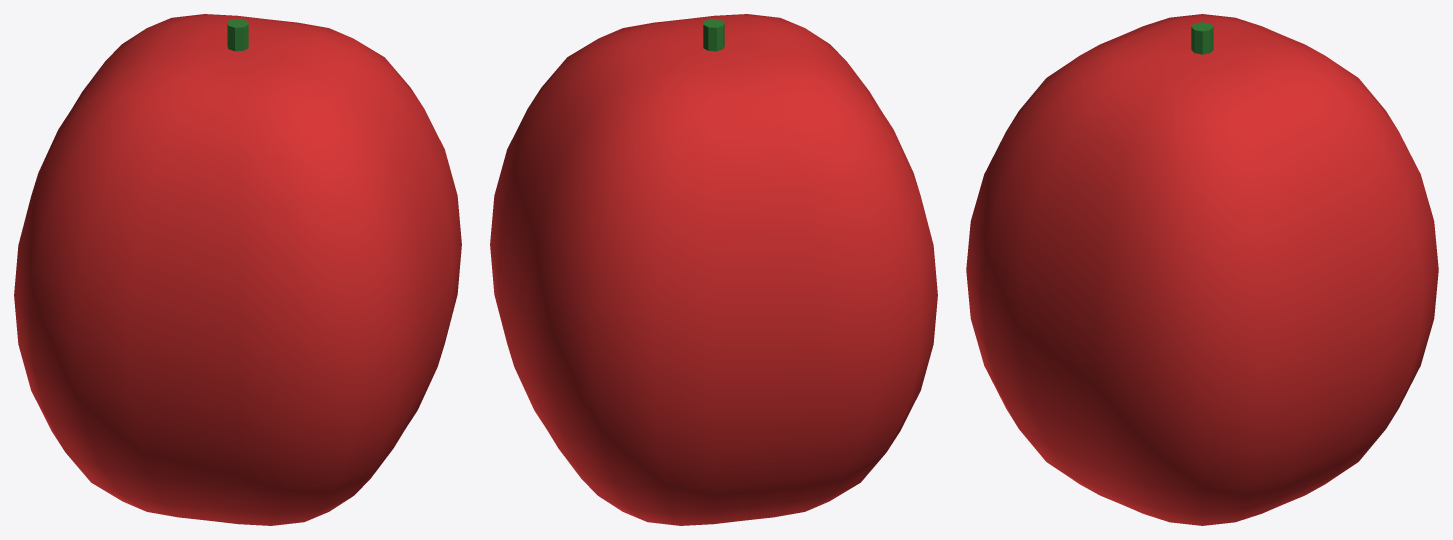
Rendered from Bell_Pepper.fbx.
The picture shows the model from 3 angles, left to right: view 1: azimuth 30°, elevation 25°; view 2: azimuth 150°, elevation 25°; view 3: azimuth 270°, elevation 25°; orthographic projection.
Visible parts, largest first — view 1: Bell_Pepper; view 2: Bell_Pepper; view 3: Bell_Pepper.
Boxes of the visible parts, <box> form: Bell_Pepper: <box>14,14,461,525</box>; Bell_Pepper: <box>490,14,937,525</box>; Bell_Pepper: <box>966,14,1438,525</box>.
Bounding box in the file's own units: 0.0856 × 0.0926 × 0.0856.
